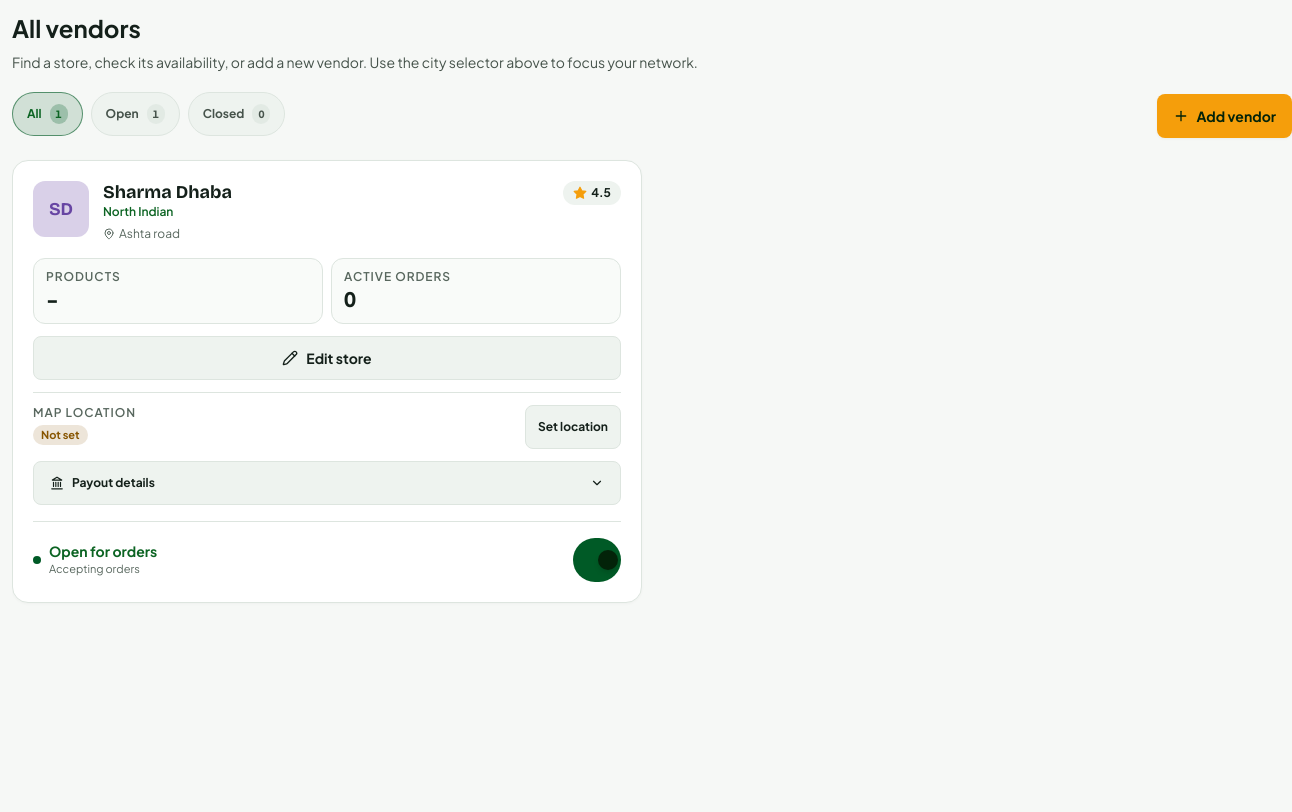
Test case: Restaurants: payout details › a restaurant without an owner login says so
Click the button with aria-label "Payout details of Sharma Dhaba".
click(113, 482)  # box [33,460,621,504]
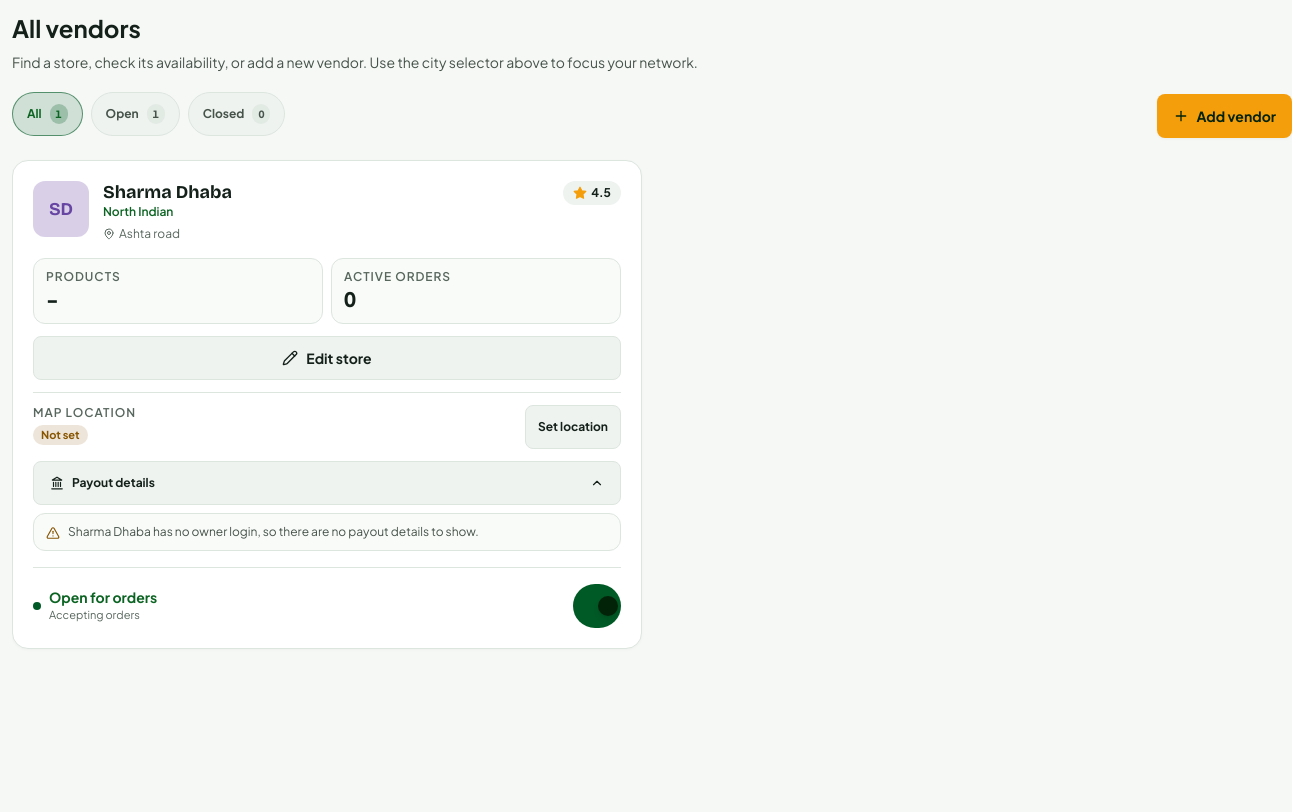
Result: the text "no owner login" is shown at [151,524,479,538]
